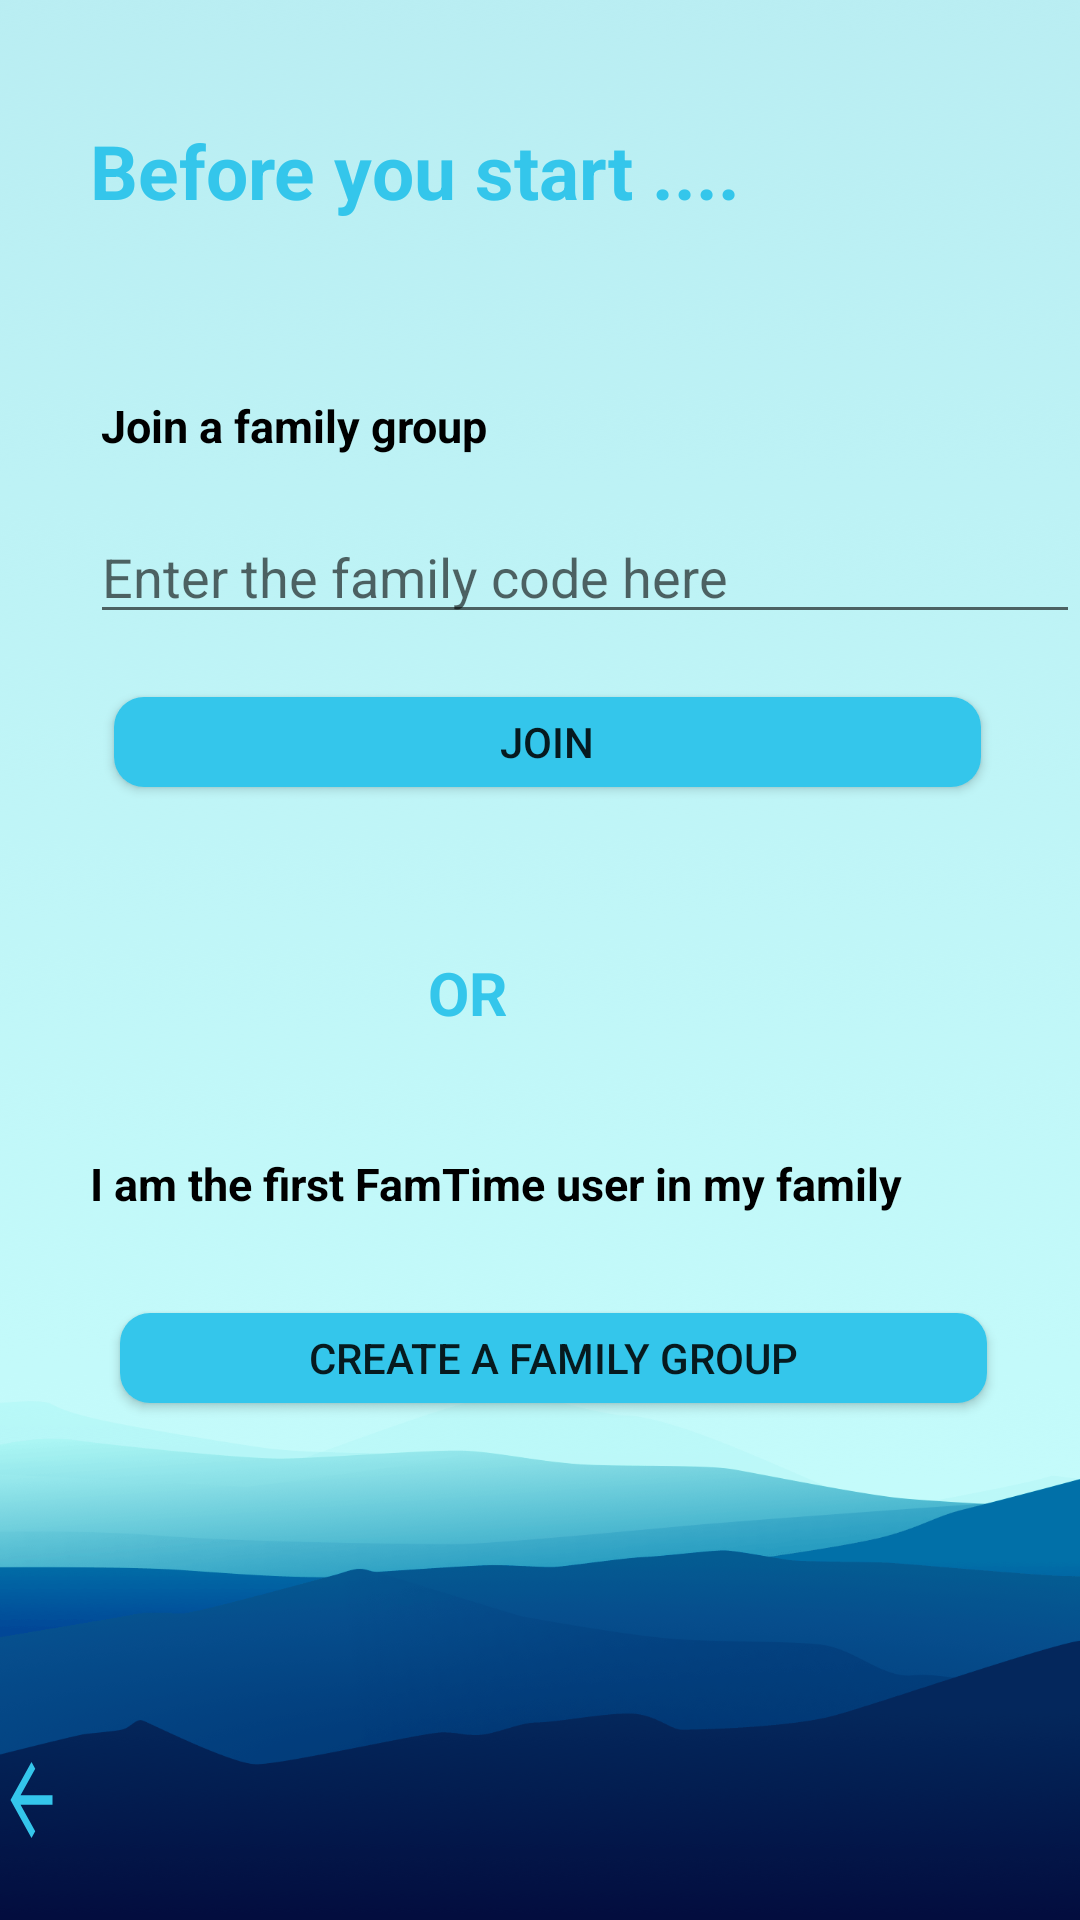

Named icons in this screenshot (1080px×1920px) and their bounding boxes, (x1, y1, x2, y2):
arrow back: (10, 1762, 53, 1838)
